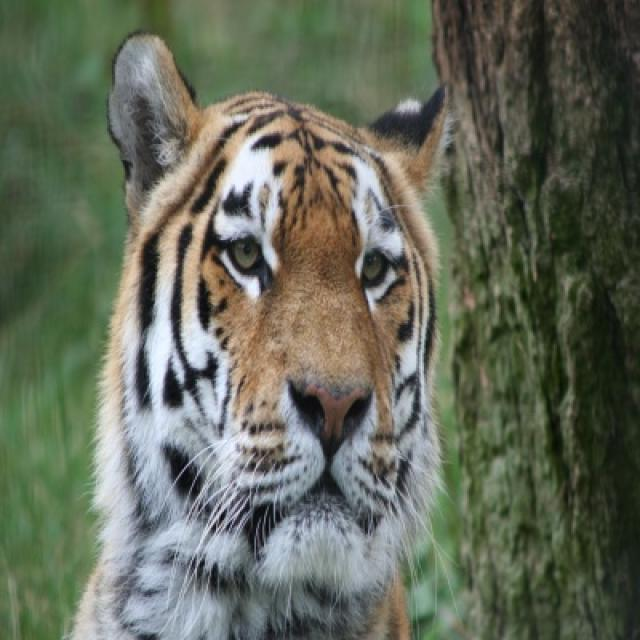Tiger: (64, 32, 442, 626)
